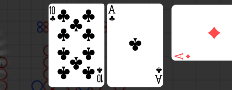10C: (49, 6, 57, 23)
AC: (108, 5, 117, 23)
AD: (174, 52, 192, 61)
